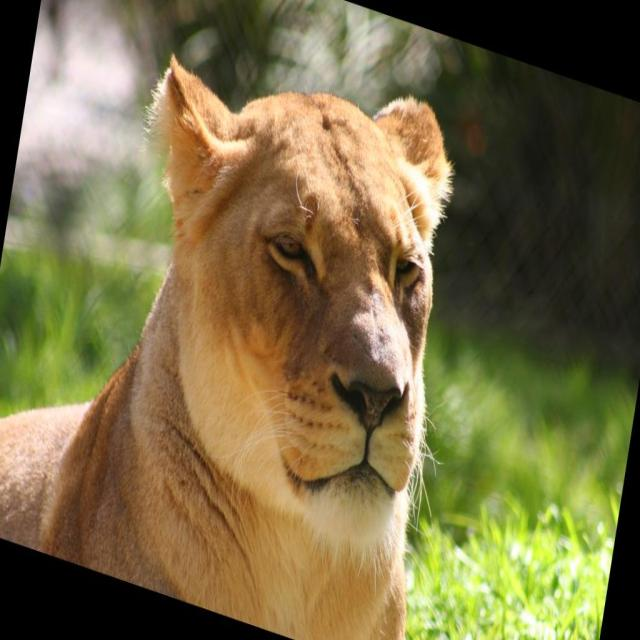Lion: (0, 0, 496, 639)
